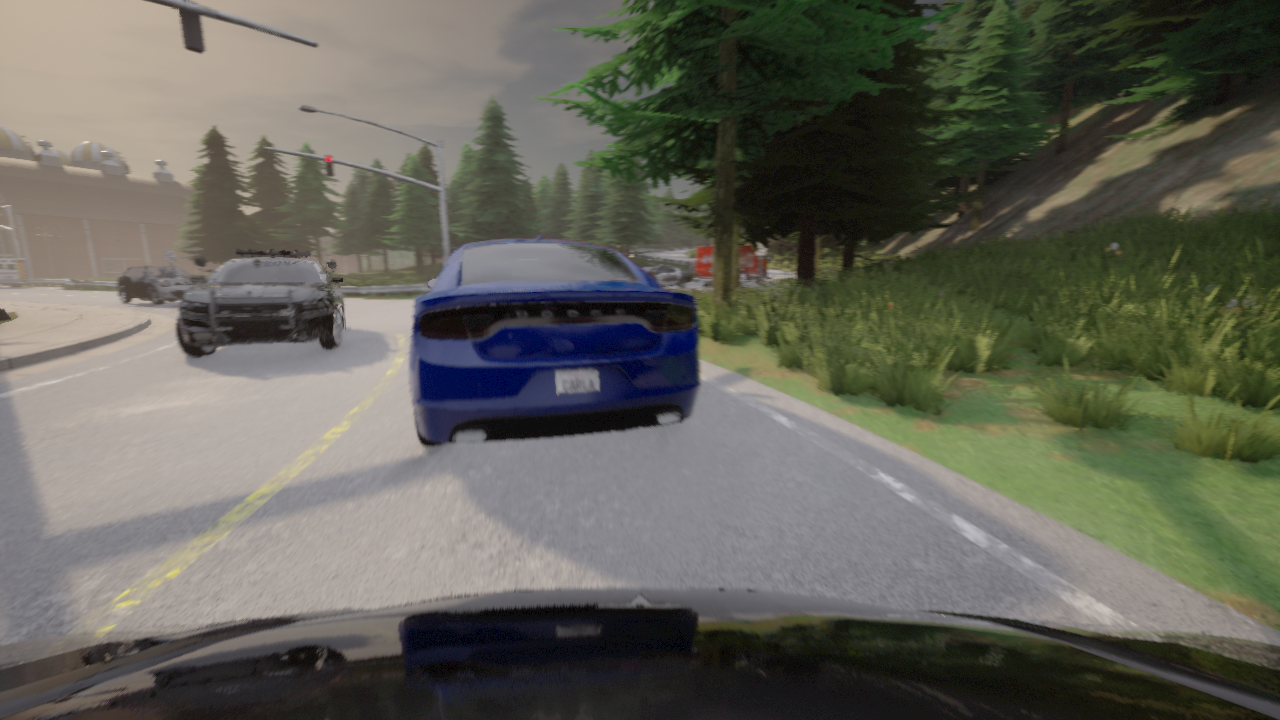cyclist: (0, 588, 1279, 719), (409, 232, 700, 446), (176, 247, 344, 356), (116, 265, 204, 304), (694, 245, 771, 288), (641, 263, 691, 288)
